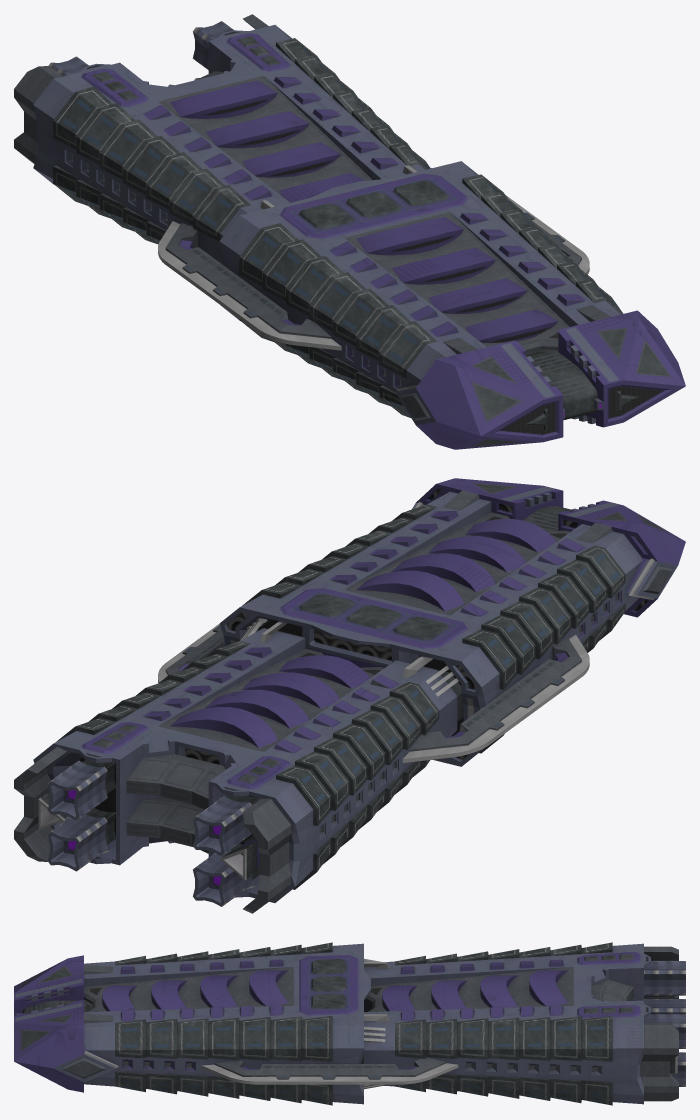
File: archimedes.obj
3 views of the same model, one above another, from view 1: azimuth 30°, elevation 25°; view 2: azimuth 150°, elevation 25°; view 3: azimuth 270°, elevation 25° (orthographic). The views are drawn at different scales.
Parts seen in each view (by area): view 1: MeshLP_Cube.013; view 2: MeshLP_Cube.013; view 3: MeshLP_Cube.013.
Boxes of the visible parts, x1=… form: MeshLP_Cube.013: x1=14, y1=14, x2=685, y2=449; MeshLP_Cube.013: x1=14, y1=478, x2=685, y2=913; MeshLP_Cube.013: x1=14, y1=942, x2=685, y2=1105.
Size of the model in its own units: 8 by 2.79 by 19.2.
1 material, 1 textured.
